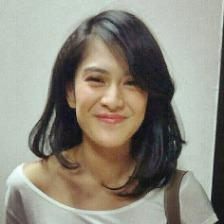Non hijab: (35, 9, 183, 204)
